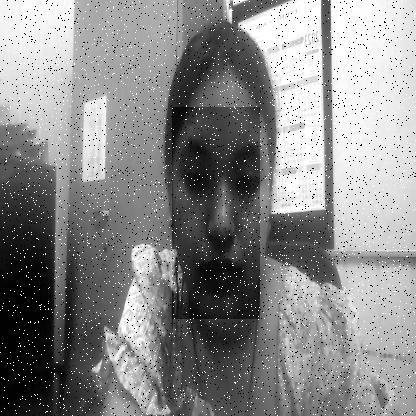Normal: (172, 107, 260, 319)
